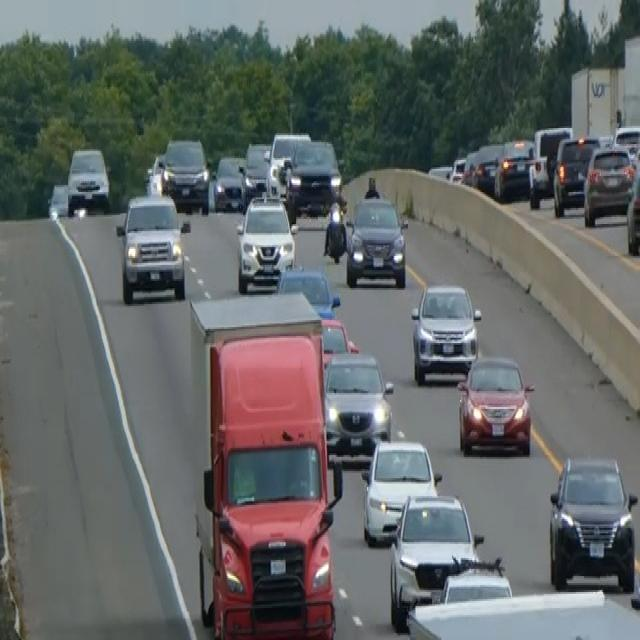car: (387, 491, 483, 629), (547, 452, 637, 592), (360, 436, 441, 546), (406, 553, 513, 633), (455, 352, 535, 457), (409, 279, 481, 384), (323, 348, 394, 454), (344, 192, 408, 288), (235, 192, 296, 292), (285, 137, 343, 220), (582, 142, 634, 226), (552, 133, 601, 215), (160, 135, 210, 213), (527, 123, 572, 206), (440, 553, 513, 604), (275, 263, 340, 318), (66, 144, 110, 213), (266, 130, 310, 196), (493, 137, 534, 201), (318, 313, 359, 373), (212, 153, 246, 211), (242, 141, 271, 199), (472, 140, 502, 194), (625, 149, 639, 256), (612, 123, 639, 165), (144, 151, 165, 194), (47, 182, 68, 220), (461, 146, 478, 185), (448, 155, 466, 183)
jeep: (114, 190, 189, 304)
lorry: (187, 288, 344, 638), (405, 585, 639, 638)
motorcycle: (322, 197, 348, 263)
